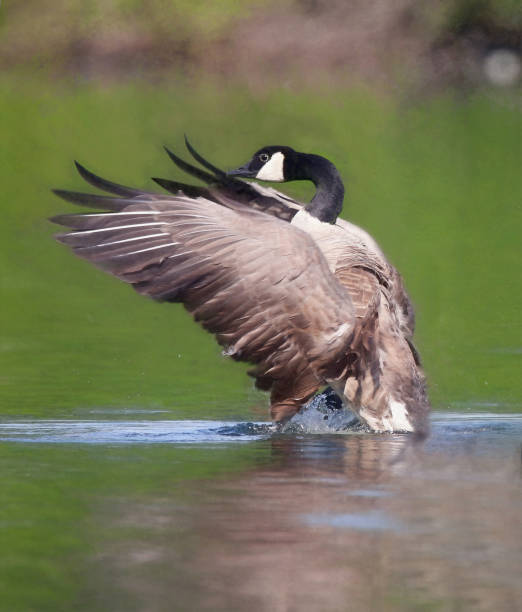goose: (44, 132, 434, 443)
